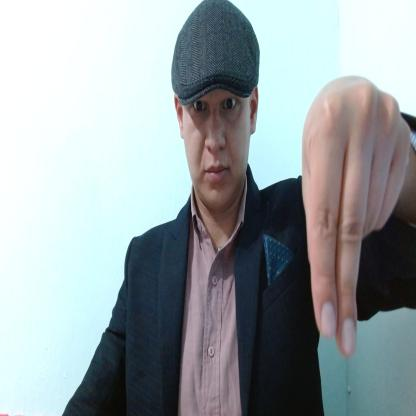N: (302, 75, 411, 356)
